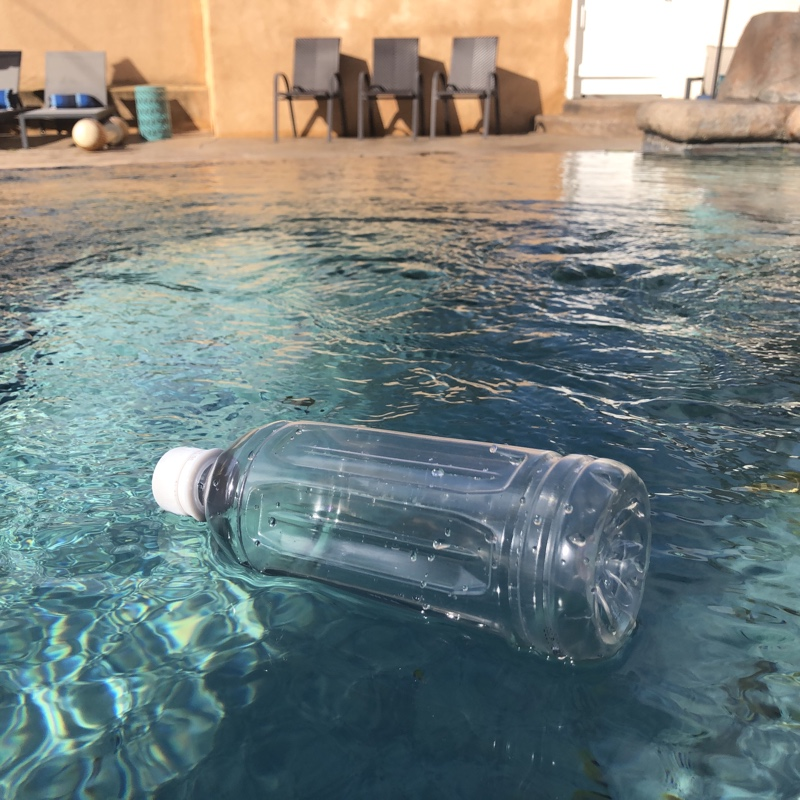Plastic Bottle: (143, 417, 657, 680)
